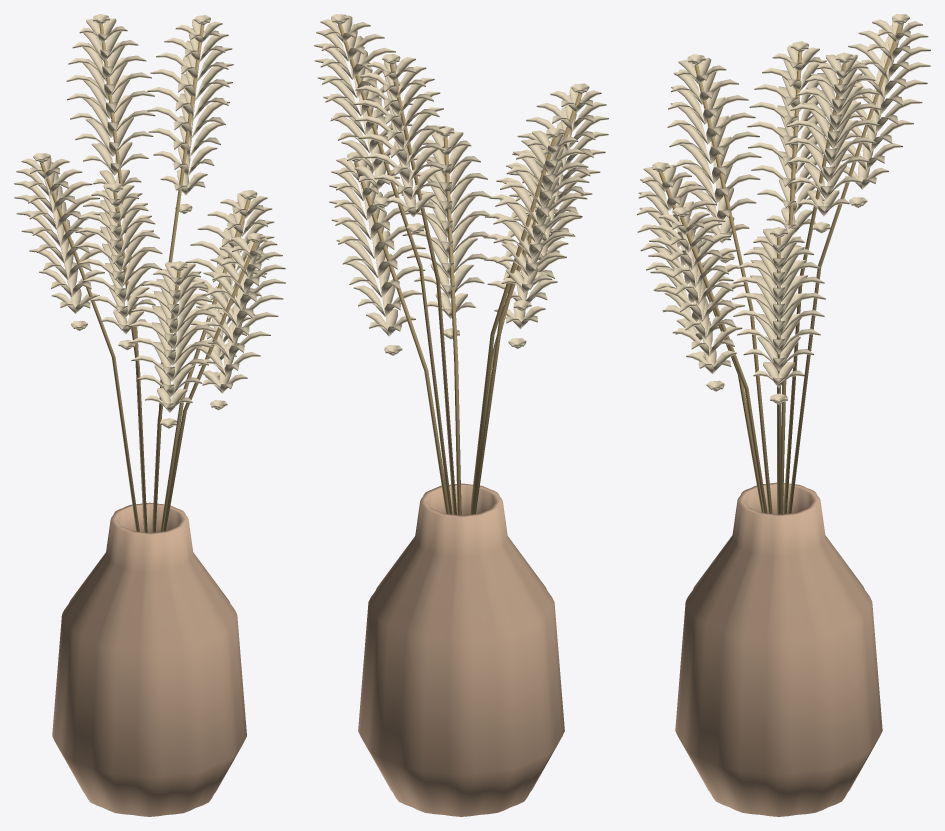
Rendered from pampas.glb.
The picture shows the model from 3 angles, left to right: view 1: azimuth 30°, elevation 25°; view 2: azimuth 150°, elevation 25°; view 3: azimuth 270°, elevation 25°; orthographic projection. The views are drawn at different scales.
Parts seen in each view (by area): view 1: pampas__body, pampas__flowers, pampas__stems; view 2: pampas__body, pampas__flowers, pampas__stems; view 3: pampas__body, pampas__flowers, pampas__stems.
Boxes of the visible parts, x1,y1,x2,y2 form: pampas__body: (52, 502, 246, 816); pampas__flowers: (14, 14, 285, 428); pampas__stems: (40, 24, 257, 532); pampas__body: (358, 483, 564, 816); pampas__flowers: (314, 14, 608, 355); pampas__stems: (338, 24, 582, 515); pampas__body: (675, 482, 882, 816); pampas__flowers: (637, 14, 930, 404); pampas__stems: (659, 24, 902, 514).
Size of the model in its own units: 0.2958 by 0.8377 by 0.2885.
